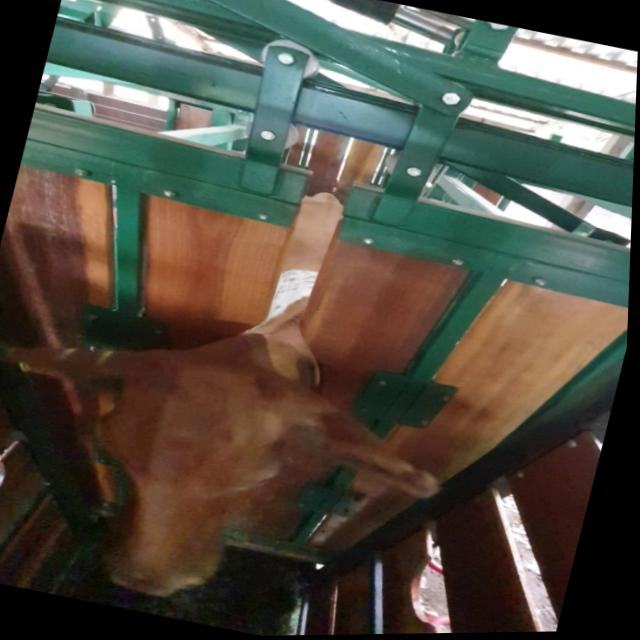cowFace: (59, 333, 309, 617)
